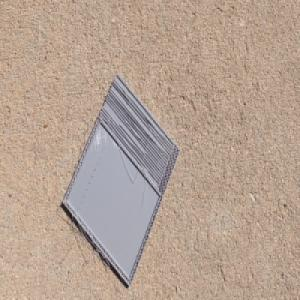PlasticPart: (61, 74, 183, 287)
